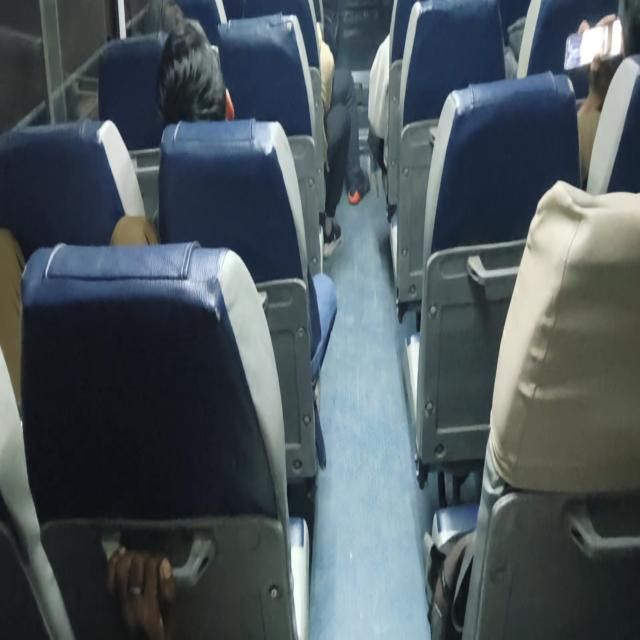person: (165, 52, 243, 124), (129, 4, 191, 40), (606, 0, 640, 59)
